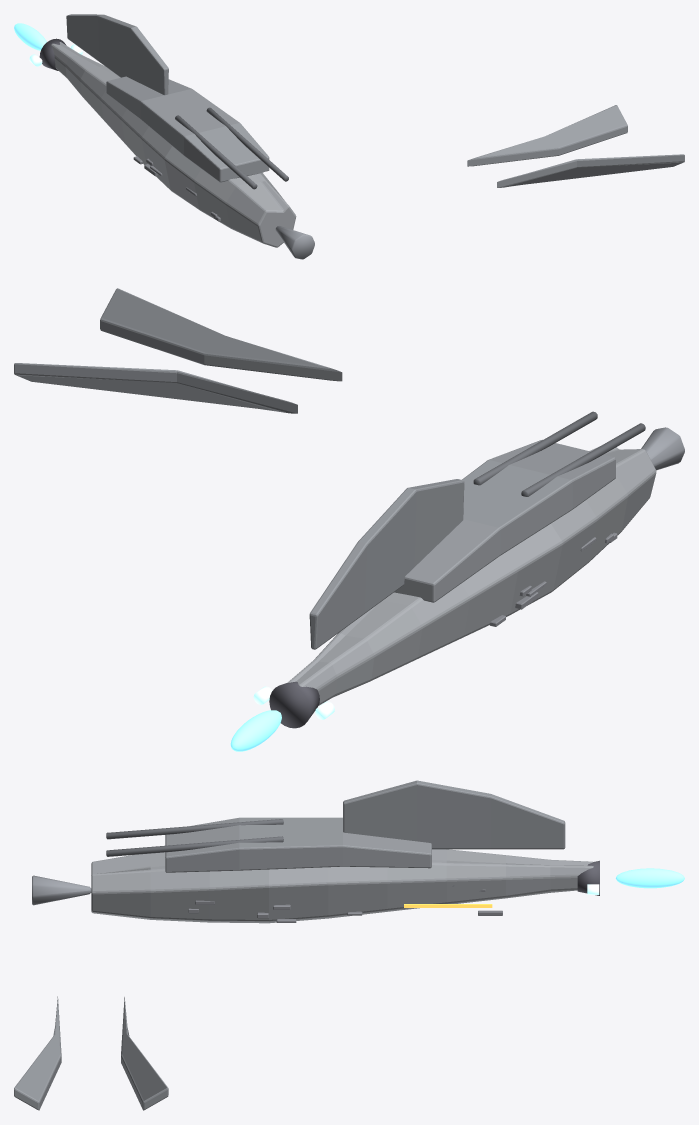
File: ship.glb
3 renders of one model, top to bottom at view 1: azimuth 30°, elevation 25°; view 2: azimuth 150°, elevation 25°; view 3: azimuth 270°, elevation 25°, orthographic. The views are drawn at different scales.
Parts seen in each view (by area): view 1: Fuselage, Canopy, Fin, FinStar, FinPort, Nose, Cannon, Cannon.001, EngineGlow, Engine; view 2: Fuselage, Canopy, Fin, FinPort, FinStar, Engine, EngineGlow, Nose, Cannon.001, Cannon; view 3: Fuselage, Fin, Canopy, FinPort, FinStar, Nose, EngineGlow, Cannon.001, Cannon, Engine.
Boxes of the visible parts, left/top/right/bottom form: Fuselage: left=51, top=42, right=296, bottom=247; Canopy: left=106, top=76, right=269, bottom=182; Fin: left=66, top=14, right=168, bottom=95; FinStar: left=467, top=105, right=627, bottom=166; FinPort: left=497, top=154, right=684, bottom=187; Nose: left=275, top=226, right=314, bottom=259; Cannon: left=175, top=115, right=257, bottom=189; Cannon.001: left=206, top=107, right=288, bottom=181; EngineGlow: left=14, top=23, right=46, bottom=50; Engine: left=39, top=38, right=66, bottom=70; Fuselage: left=287, top=446, right=656, bottom=705; Canopy: left=394, top=439, right=615, bottom=602; Fin: left=309, top=479, right=464, bottom=649; FinPort: left=100, top=288, right=342, bottom=381; FinStar: left=14, top=363, right=297, bottom=413; Engine: left=269, top=681, right=319, bottom=728; EngineGlow: left=230, top=710, right=281, bottom=751; Nose: left=641, top=427, right=684, bottom=470; Cannon.001: left=473, top=411, right=597, bottom=485; Cannon: left=521, top=423, right=645, bottom=496; Fuselage: left=91, top=849, right=593, bottom=923; Fin: left=343, top=780, right=565, bottom=849; Canopy: left=165, top=817, right=431, bottom=872; FinPort: left=14, top=996, right=61, bottom=1110; FinStar: left=121, top=997, right=168, bottom=1110; Nose: left=32, top=875, right=91, bottom=905; EngineGlow: left=615, top=868, right=684, bottom=888; Cannon.001: left=106, top=836, right=283, bottom=856; Cannon: left=106, top=819, right=283, bottom=839; Engine: left=577, top=860, right=599, bottom=895.
Size of the model in its own units: 7.21 by 2.1 by 9.06.
